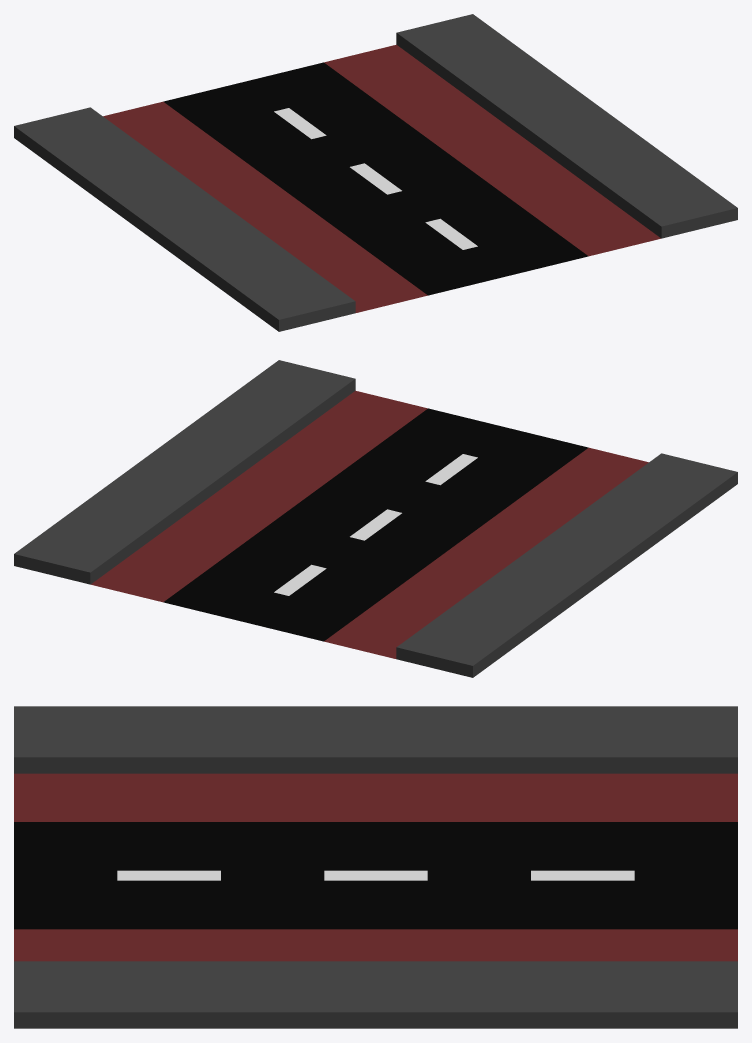
Rendered from RoadStraightLvl2.fbx.
3 views of the same model, one above another, from view 1: azimuth 30°, elevation 25°; view 2: azimuth 150°, elevation 25°; view 3: azimuth 270°, elevation 25° (orthographic). The views are drawn at different scales.
Parts seen in each view (by area): view 1: RoadStraightLvl2.001; view 2: RoadStraightLvl2.001; view 3: RoadStraightLvl2.001.
Part boxes in pixels (x1,y1,x2,y2): RoadStraightLvl2.001: (14,14,737,331); RoadStraightLvl2.001: (14,360,737,677); RoadStraightLvl2.001: (14,706,737,1028).
Bounding box in the file's own units: 800 × 20 × 800.
